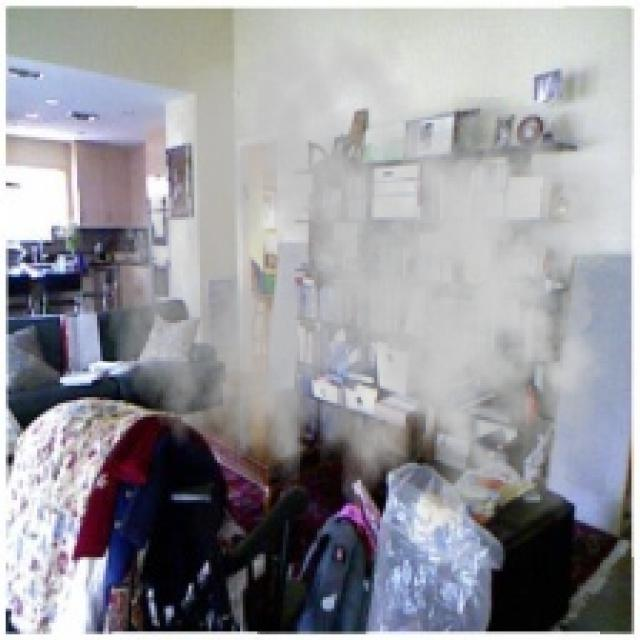smoke: (106, 14, 637, 552)
